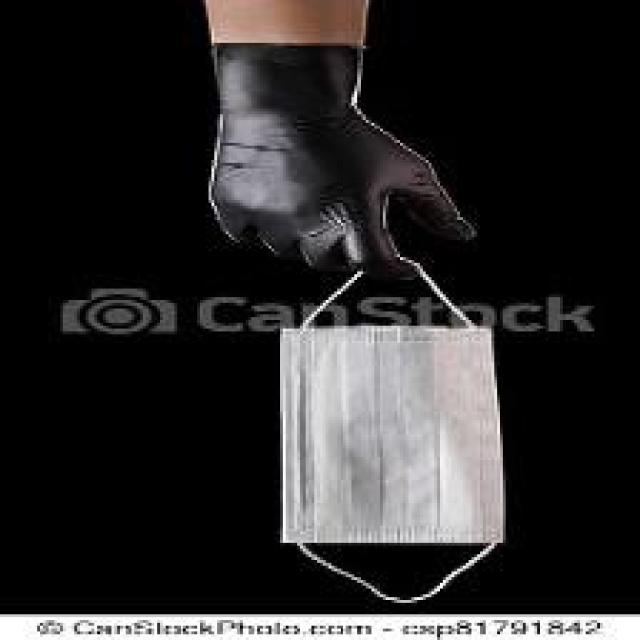Mask: (255, 248, 522, 624)
